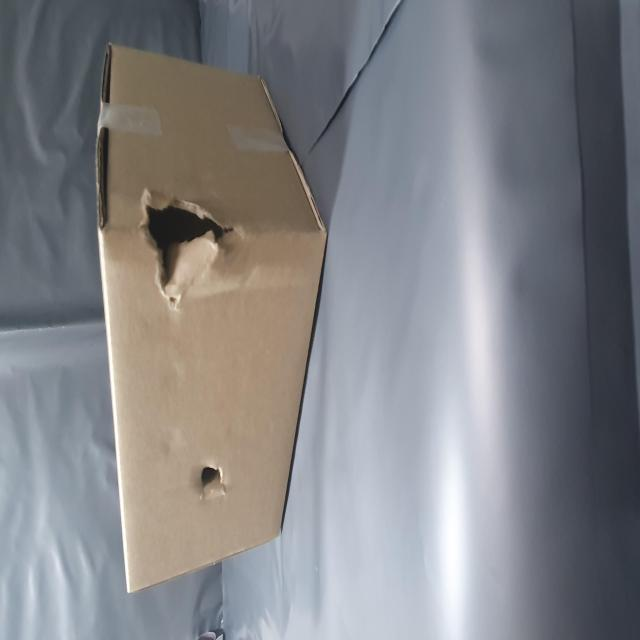damaged: (189, 239, 253, 432), (78, 336, 109, 410)
